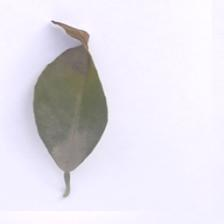black spot: (29, 40, 114, 157)
